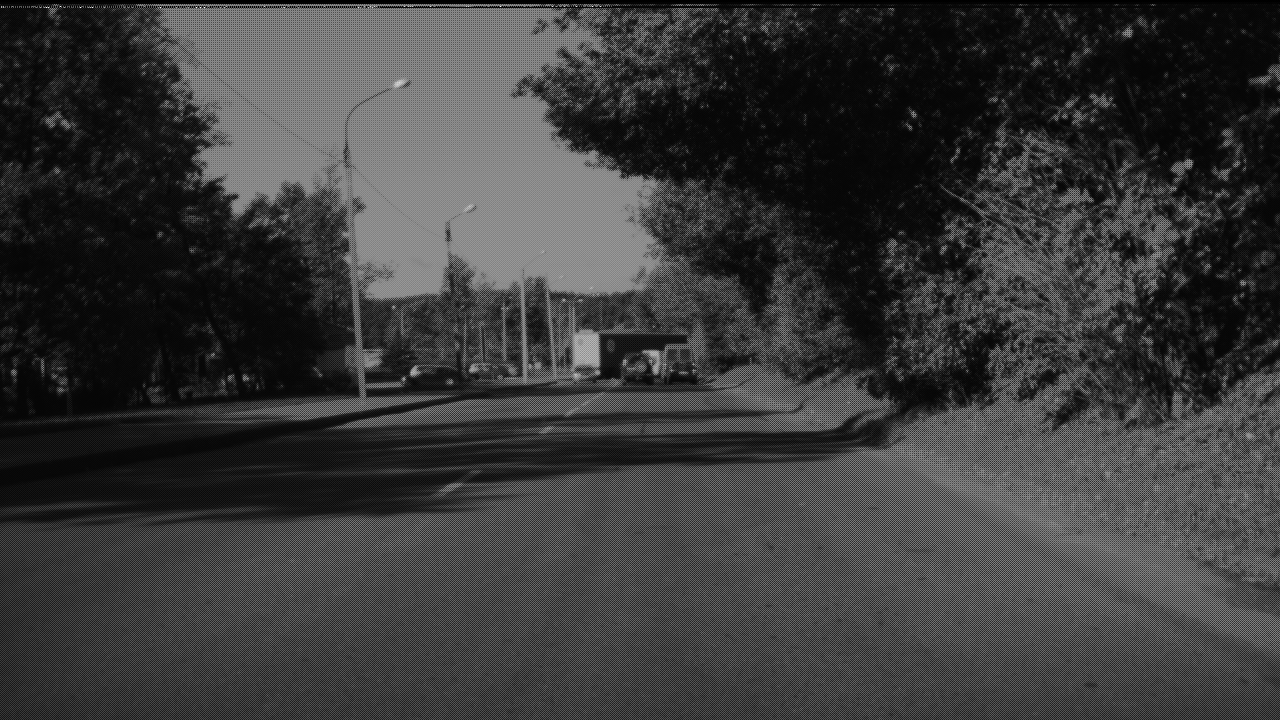pole: (343, 105, 368, 393), (444, 214, 463, 380), (520, 260, 528, 374)
